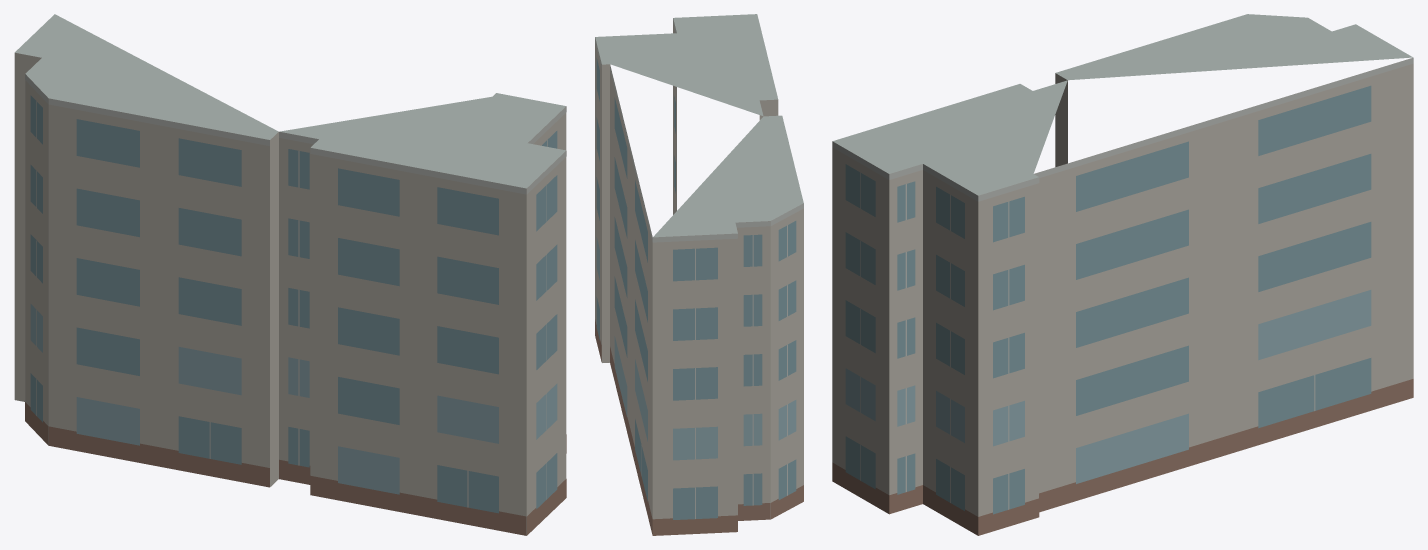
File: survey-upis-32658342.glb
3 renders of one model, left to right at view 1: azimuth 30°, elevation 25°; view 2: azimuth 150°, elevation 25°; view 3: azimuth 270°, elevation 25°, orthographic. The views are drawn at different scales.
Parts seen in each view (by area): view 1: survey-upis-32658342.tmp; view 2: survey-upis-32658342.tmp; view 3: survey-upis-32658342.tmp.
Part boxes in pixels (bbox=[...]): survey-upis-32658342.tmp: bbox=[14, 14, 566, 535]; survey-upis-32658342.tmp: bbox=[595, 14, 803, 535]; survey-upis-32658342.tmp: bbox=[832, 14, 1413, 535].
Bounding box in the file's own units: 15.82 × 13.8 × 21.38.
